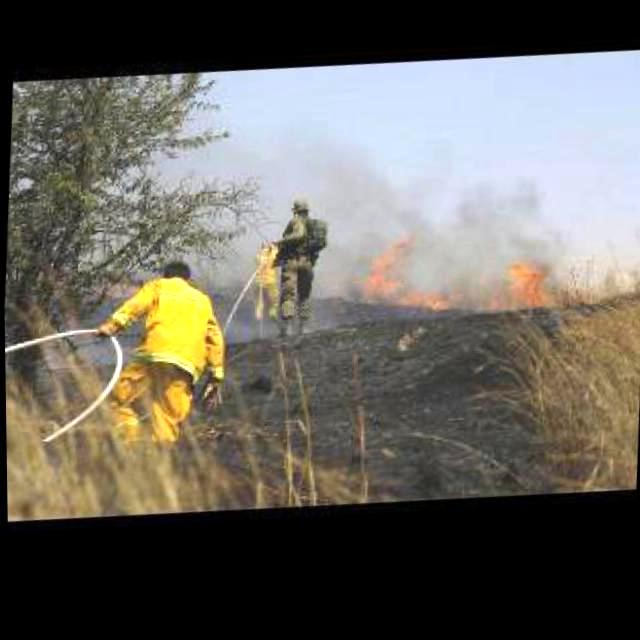fire: (316, 160, 560, 300), (356, 244, 456, 328), (479, 266, 576, 326)
